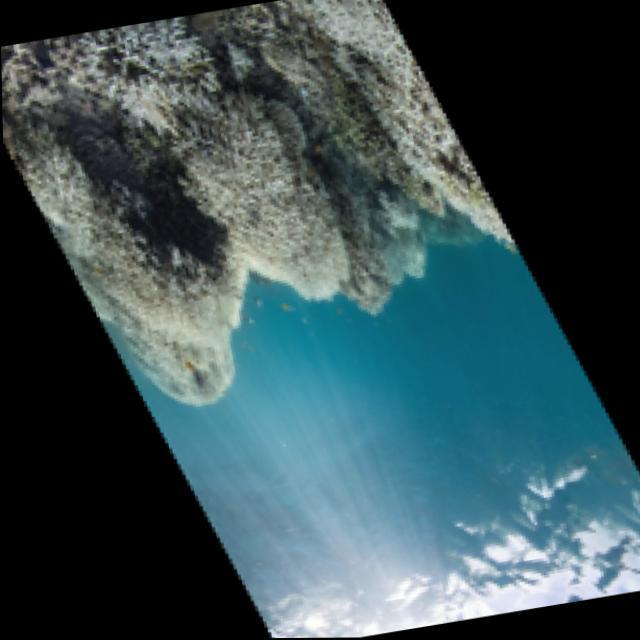Dead Coral: (8, 66, 288, 451), (322, 0, 546, 355), (170, 56, 390, 359), (17, 11, 239, 140)
